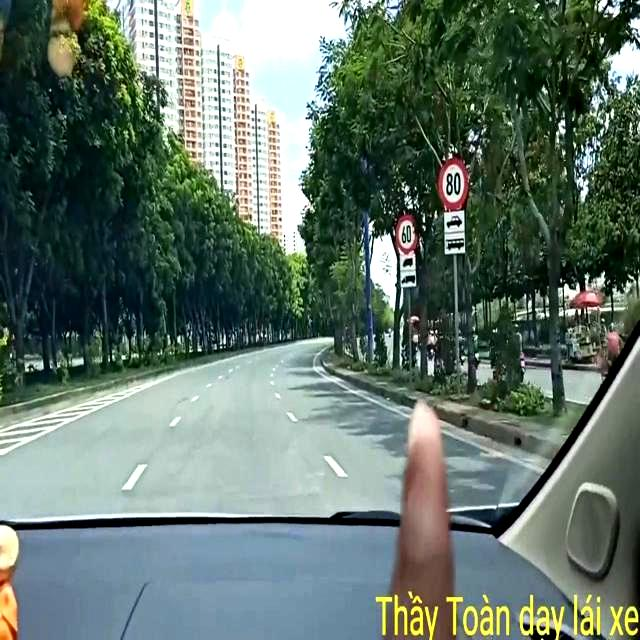Biển phụ: (443, 209, 466, 258), (398, 256, 420, 285)
Giới hạn tốc độ: 60Km/h: (391, 208, 419, 252)
Giới hạn tốc độ: 80Km/h: (430, 153, 469, 211)
